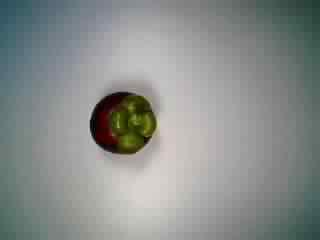mangosteen: (86, 83, 160, 158)
